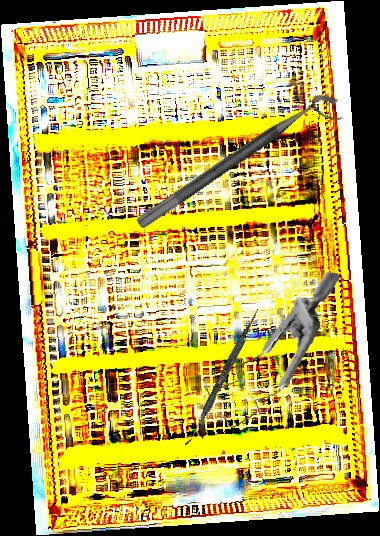Fixation Ring: (134, 86, 349, 247)
Spatula Surgical: (184, 306, 261, 449)
Speculum: (196, 256, 341, 440)
